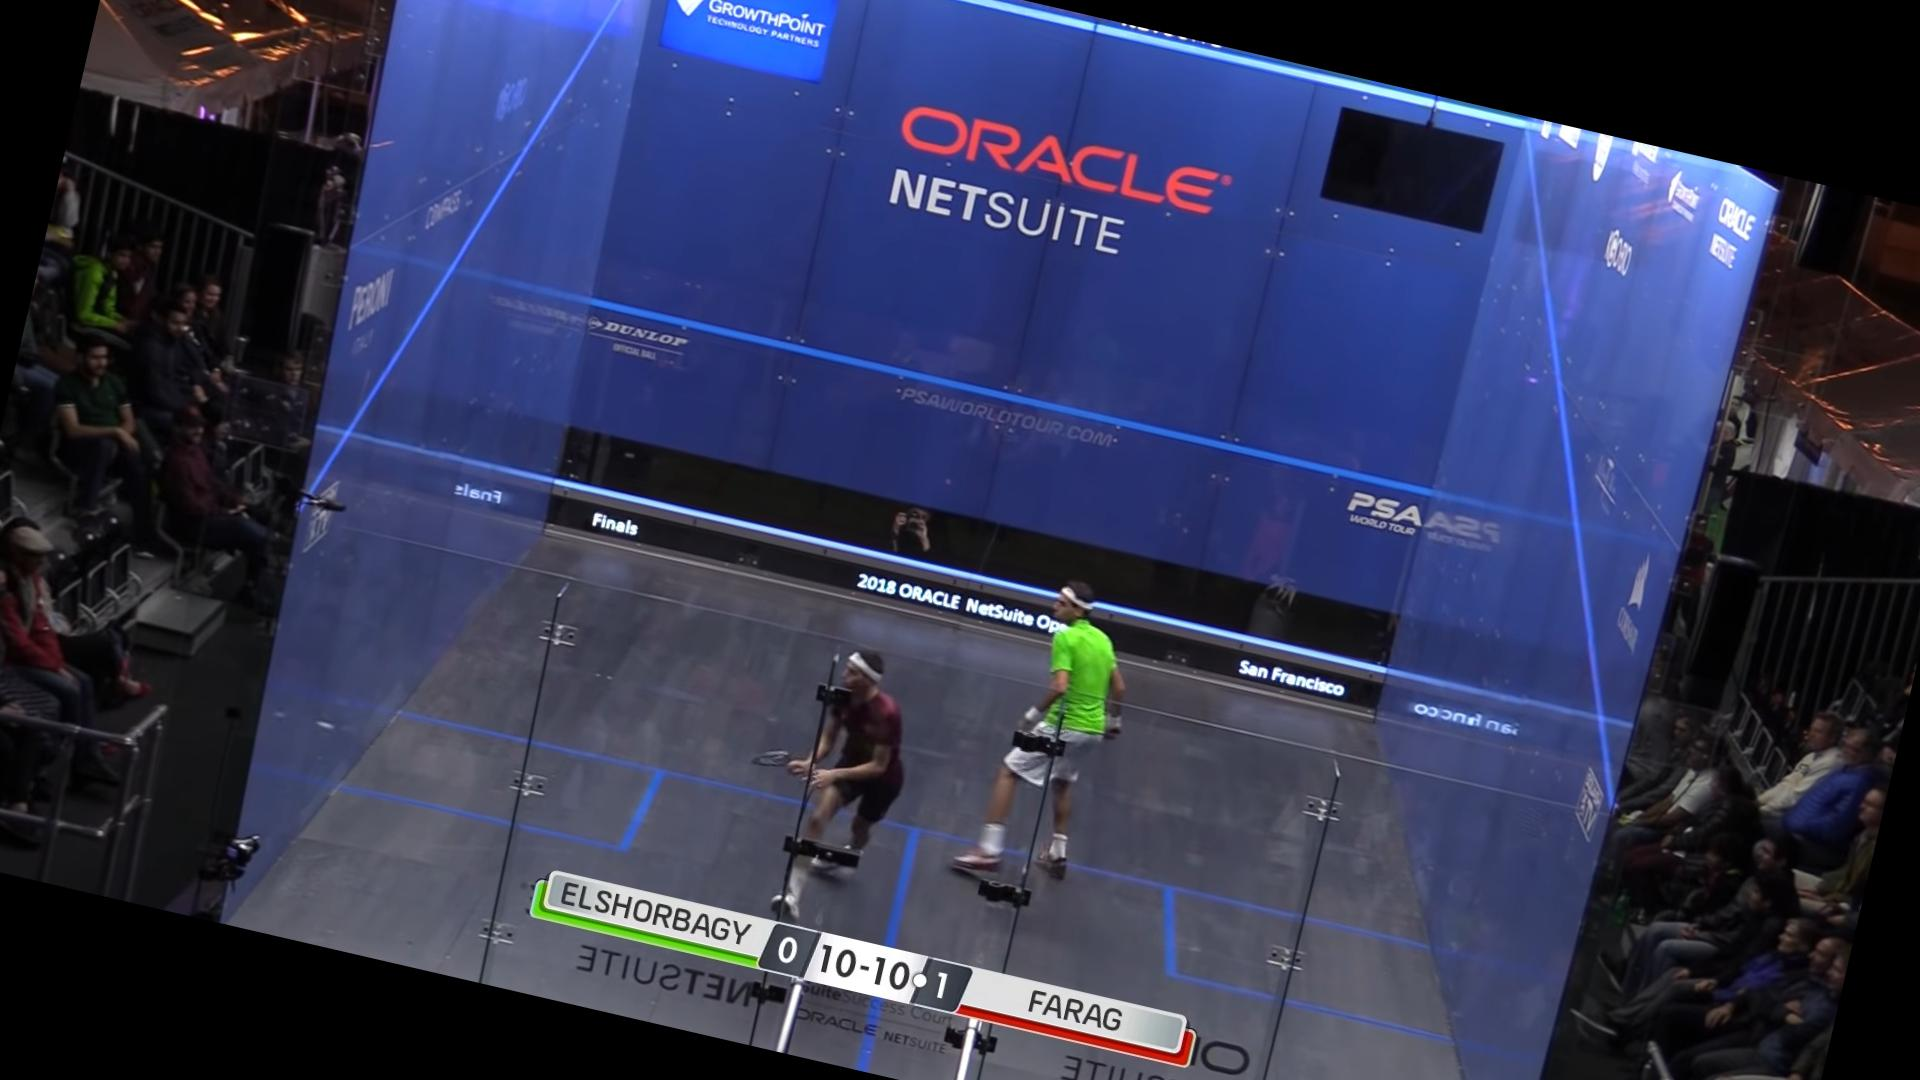Squash-Ball: (310, 711, 336, 740)
